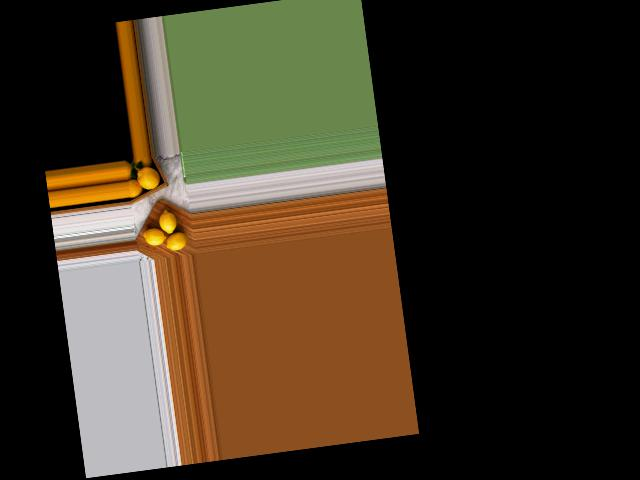lemon: (163, 226, 192, 253)
